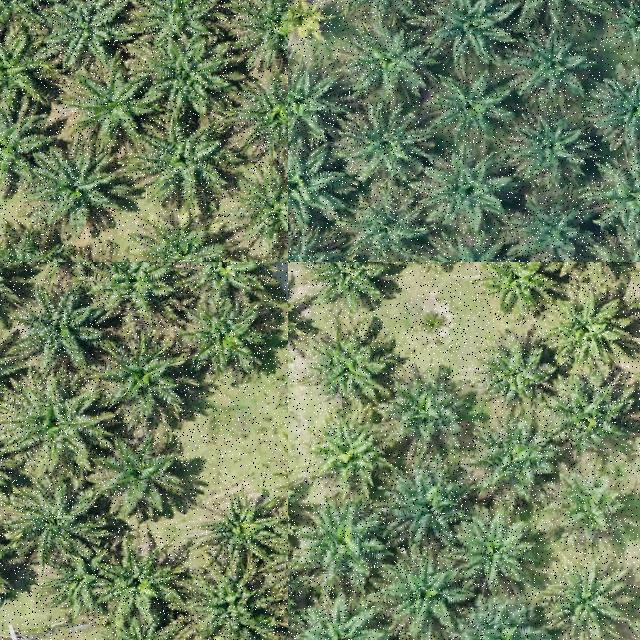Ganoderma: (288, 0, 329, 45)
